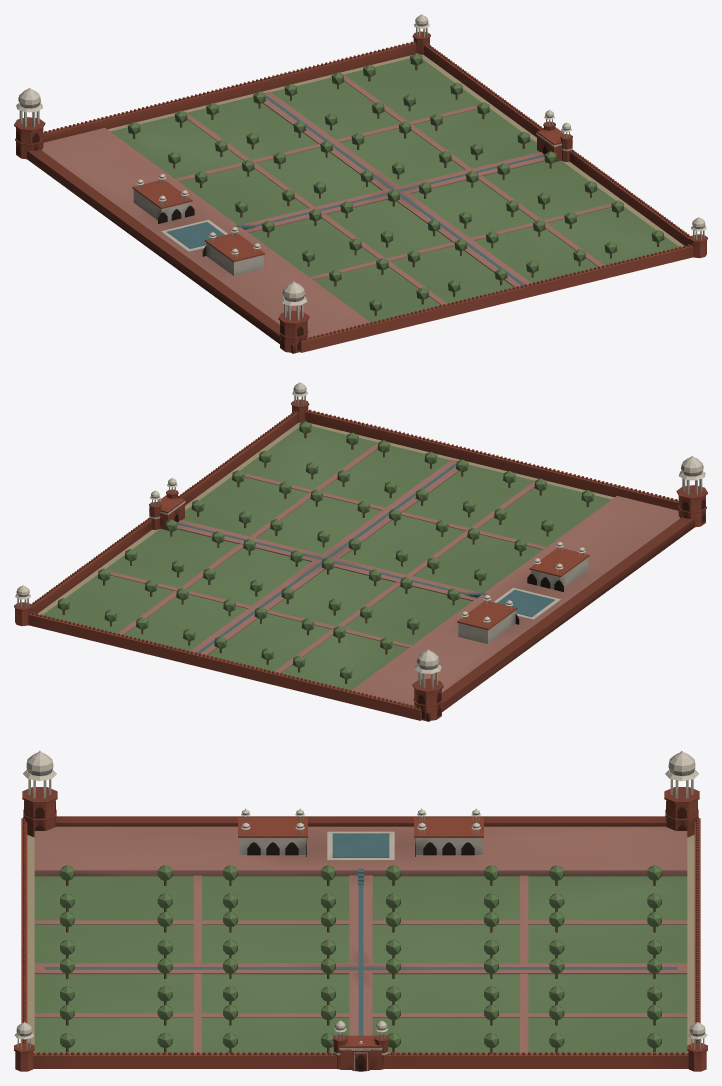
File: aram-bagh.glb
3 renders of one model, top to bottom at view 1: azimuth 30°, elevation 25°; view 2: azimuth 150°, elevation 25°; view 3: azimuth 270°, elevation 25°, orthographic. The views are drawn at different scales.
Visible parts, largest first — view 1: p1_garden, p0_walls, p2_pavilions; view 2: p1_garden, p0_walls, p2_pavilions; view 3: p1_garden, p0_walls, p2_pavilions.
Part boxes in pixels (x1,y1,x2,y2): p1_garden: (41, 53, 679, 338); p0_walls: (14, 14, 707, 353); p2_pavilions: (132, 173, 264, 275); p1_garden: (42, 421, 680, 706); p0_walls: (14, 382, 707, 721); p2_pavilions: (457, 541, 589, 643); p1_garden: (34, 826, 687, 1053); p0_walls: (14, 750, 707, 1071); p2_pavilions: (238, 808, 483, 860).
Bounding box in the file's own units: 227 × 34.48 × 268.
